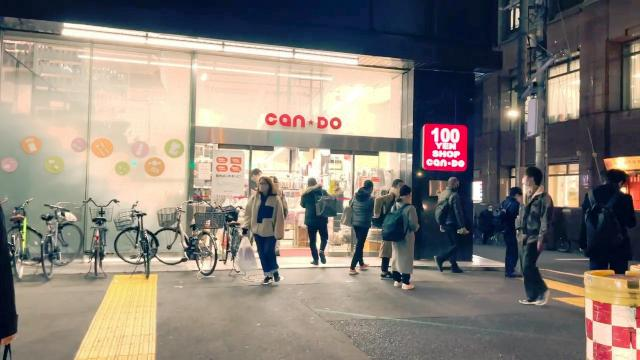berdiri: (582, 162, 640, 304), (377, 176, 423, 294)
berjalan: (518, 164, 558, 318), (239, 179, 287, 281), (344, 176, 380, 276), (296, 173, 336, 262)
